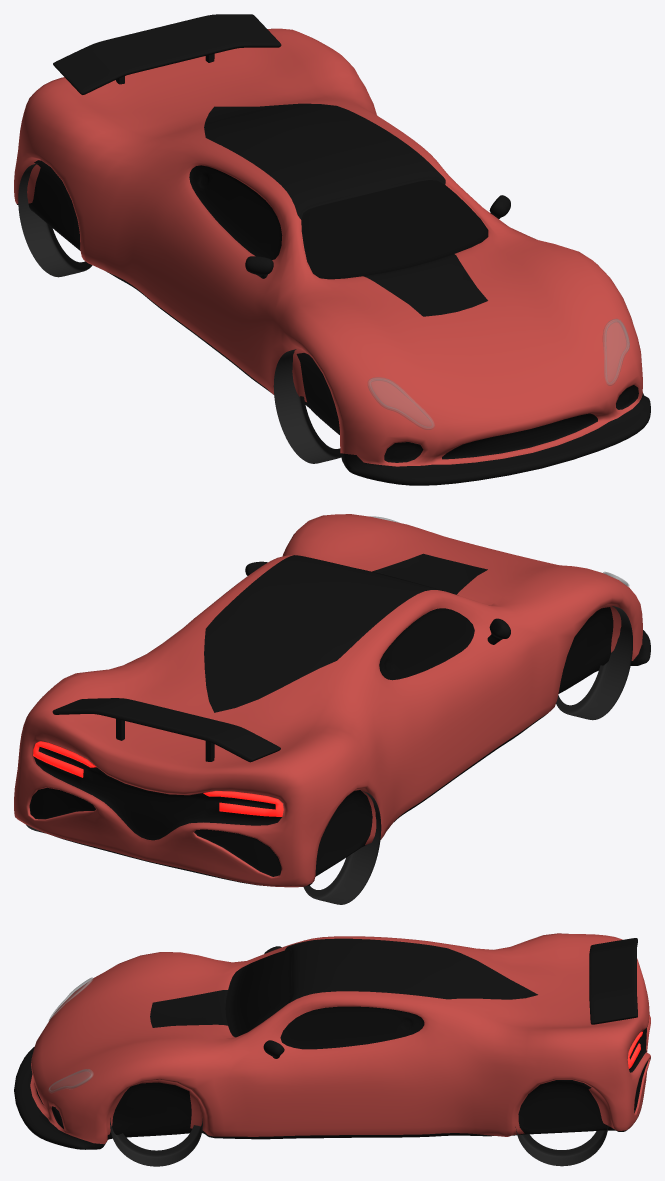
Rendered from body.glb.
The picture shows the model from 3 angles, top to bottom: view 1: azimuth 30°, elevation 25°; view 2: azimuth 150°, elevation 25°; view 3: azimuth 270°, elevation 25°; orthographic projection. The views are drawn at different scales.
Parts seen in each view (by area): view 1: Object_4, Object_6, Object_5, Object_8, Object_10; view 2: Object_4, Object_6, Object_8, Object_5, Object_7; view 3: Object_4, Object_6, Object_5, Object_8, Object_10.
Boxes of the visible parts, x1,y1,x2,y2 form: Object_4: (14, 28, 642, 466); Object_6: (17, 14, 650, 485); Object_5: (189, 165, 488, 279); Object_8: (18, 163, 341, 463); Object_10: (368, 318, 629, 429); Object_4: (14, 514, 642, 887); Object_6: (15, 553, 650, 886); Object_8: (26, 606, 632, 904); Object_5: (358, 568, 474, 680); Object_7: (33, 741, 283, 816); Object_4: (30, 933, 650, 1144); Object_6: (14, 938, 648, 1149); Object_5: (225, 950, 424, 1049); Object_8: (110, 1118, 608, 1166); Object_10: (48, 977, 93, 1092).
Bounding box in the file's own units: 1.84 × 1.03 × 4.12.
